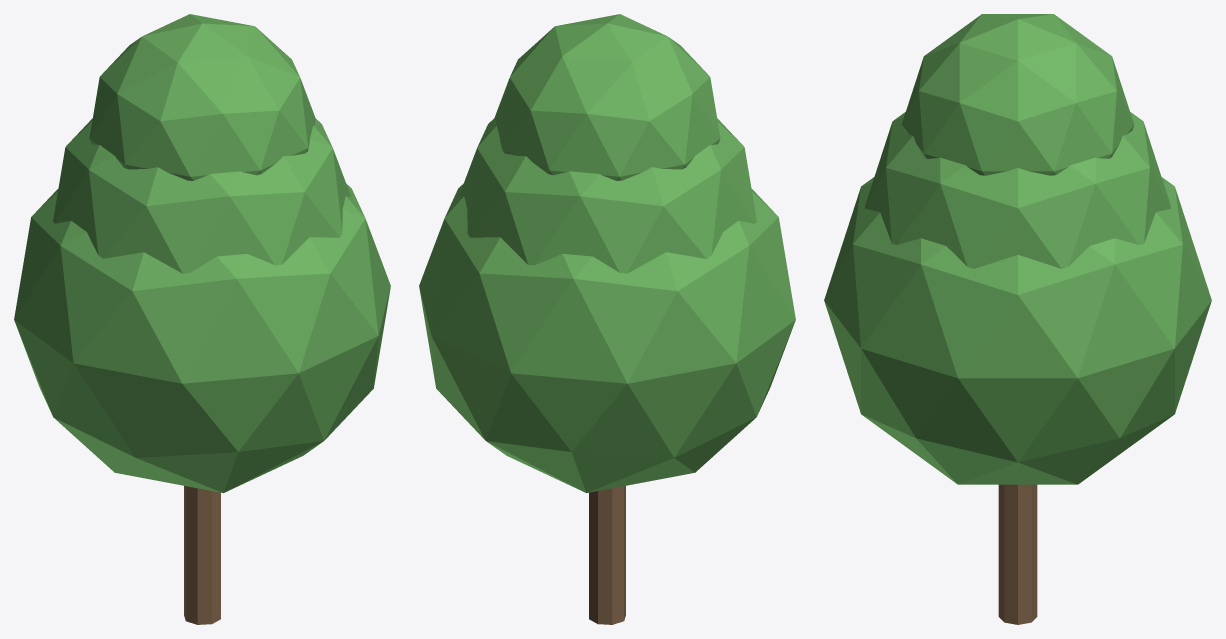
File: tree_round.glb
The picture shows the model from 3 angles, left to right: view 1: azimuth 30°, elevation 25°; view 2: azimuth 150°, elevation 25°; view 3: azimuth 270°, elevation 25°; orthographic projection.
Visible parts, largest first — view 1: TreeRound_canopy_0, TreeRound_canopy_2, TreeRound_canopy_1, TreeRound_trunk; view 2: TreeRound_canopy_0, TreeRound_canopy_2, TreeRound_canopy_1, TreeRound_trunk; view 3: TreeRound_canopy_0, TreeRound_canopy_2, TreeRound_canopy_1, TreeRound_trunk.
Boxes of the visible parts, x1,y1,x2,y2 form: TreeRound_canopy_0: [14, 184, 390, 493]; TreeRound_canopy_2: [89, 14, 315, 180]; TreeRound_canopy_1: [53, 118, 351, 273]; TreeRound_trunk: [184, 486, 220, 624]; TreeRound_canopy_0: [419, 184, 795, 493]; TreeRound_canopy_2: [494, 14, 720, 180]; TreeRound_canopy_1: [458, 118, 756, 273]; TreeRound_trunk: [589, 486, 625, 624]; TreeRound_canopy_0: [824, 177, 1211, 484]; TreeRound_canopy_2: [901, 14, 1134, 175]; TreeRound_canopy_1: [865, 112, 1170, 268]; TreeRound_trunk: [998, 484, 1037, 624].
Size of the model in its own units: 1.52 by 2.72 by 1.6.
